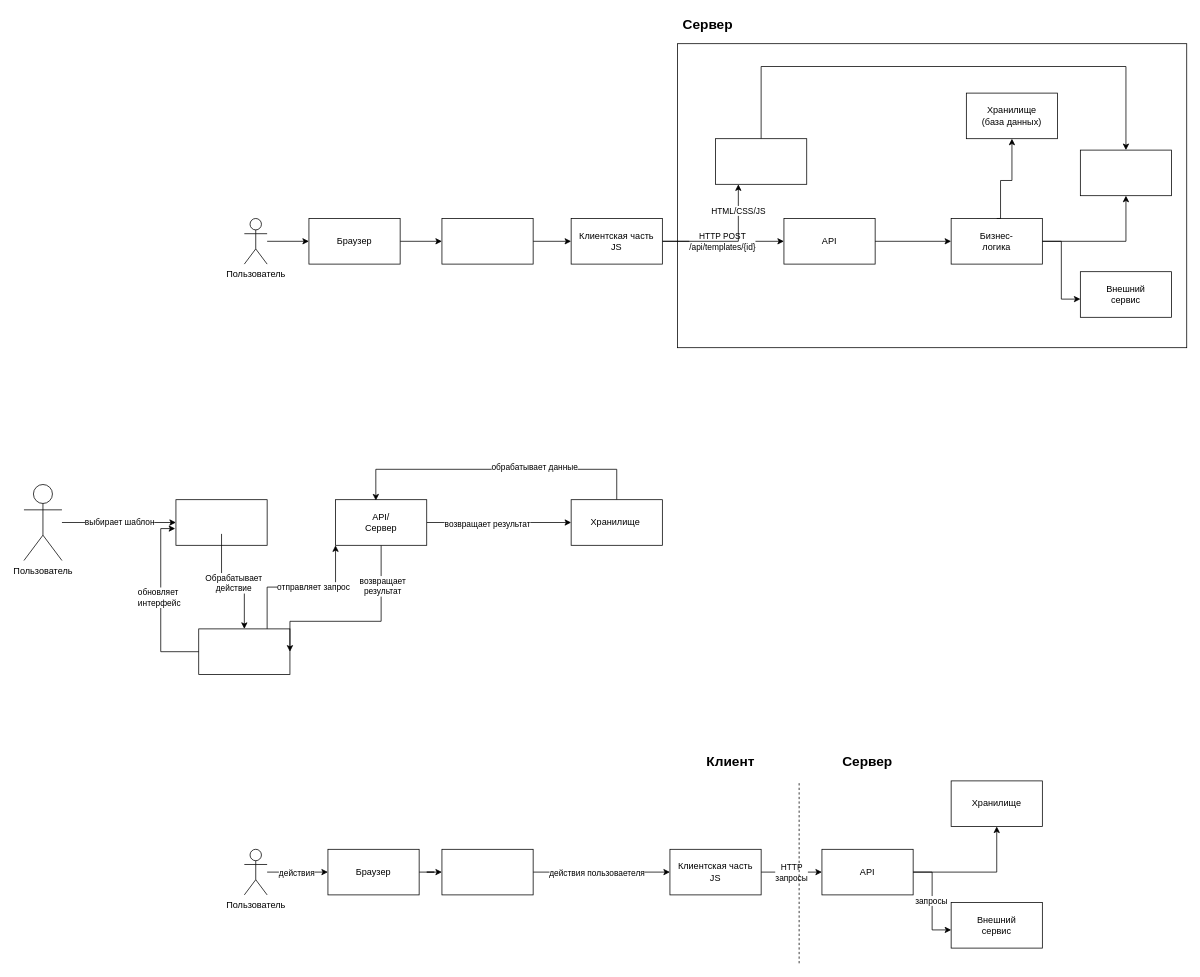
This 1200x977 diagram has some shape labels left out. Each missing label, with the centre of its shape:
JavaScript: pixel 244 651
Интерфейс: pixel 487 872
Интерфейс HTML/CSS: pixel 487 241
Интерфейс редактора: pixel 221 522
Файловое хранилище: pixel 1126 172
Хранилище ресурсов: pixel 761 161
